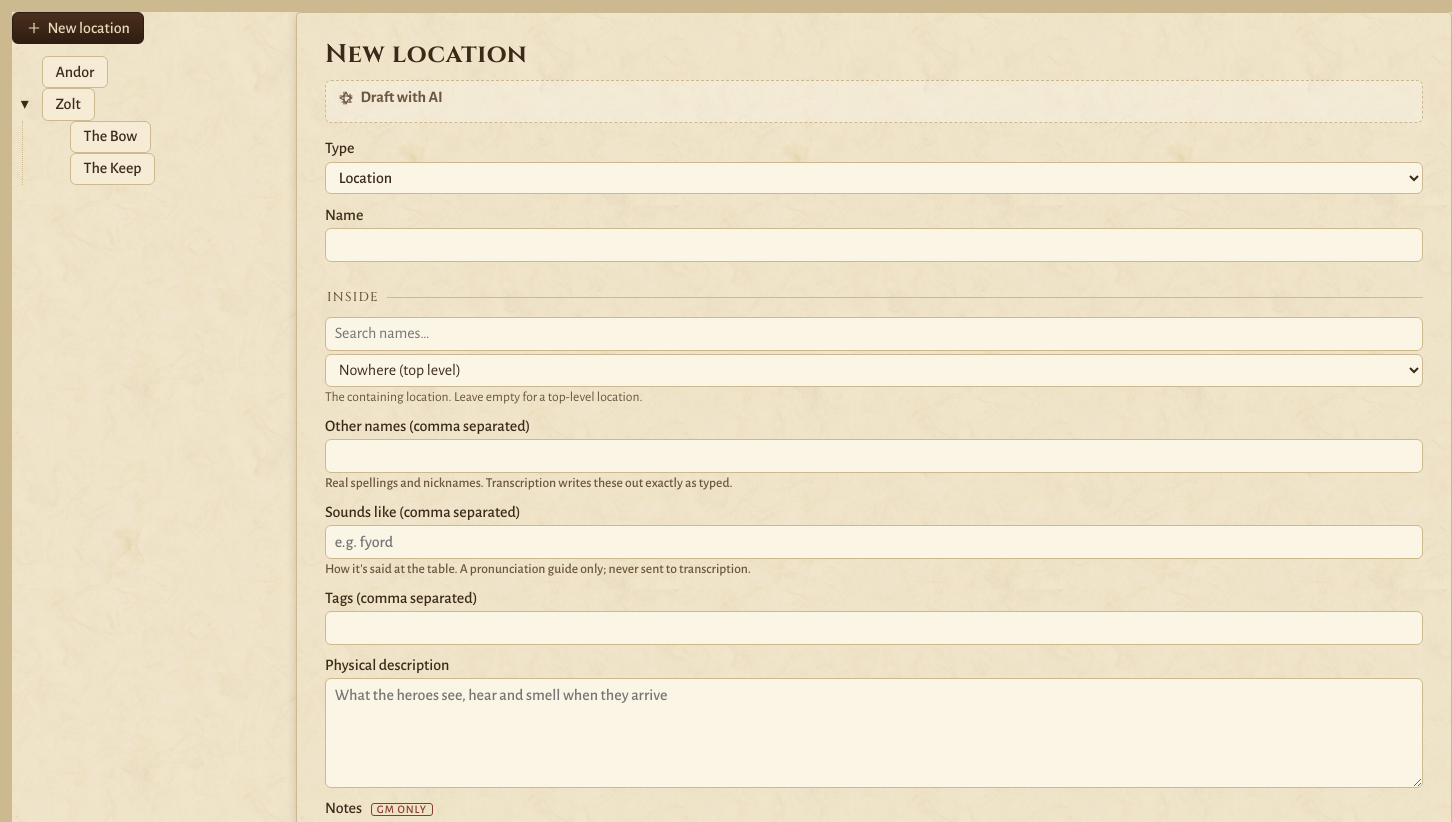
Test: location tree › places are alphabetical at every level, and a branch collapses (bafft-w8f.6)
The width and height of the screenshot is (1452, 822).
Expected: the button "The Bow" is shown, [70,121,151,153]
Click the button named "Collapse Zolt" at (25, 104), box [12,94,38,116]
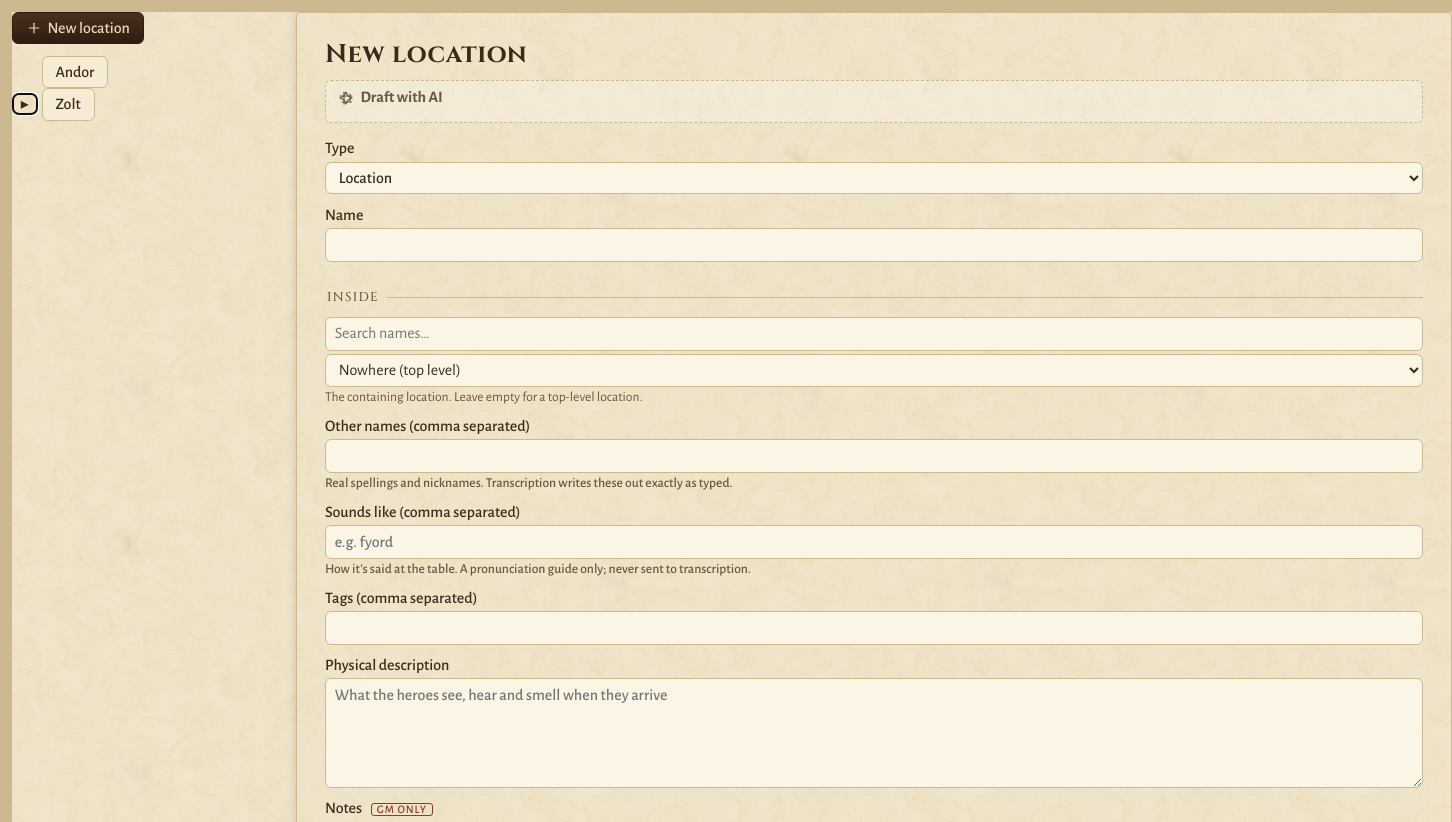
Now the button "The Bow" is gone
Click the button named "Expand Zolt" at (25, 104), box [12,94,38,116]
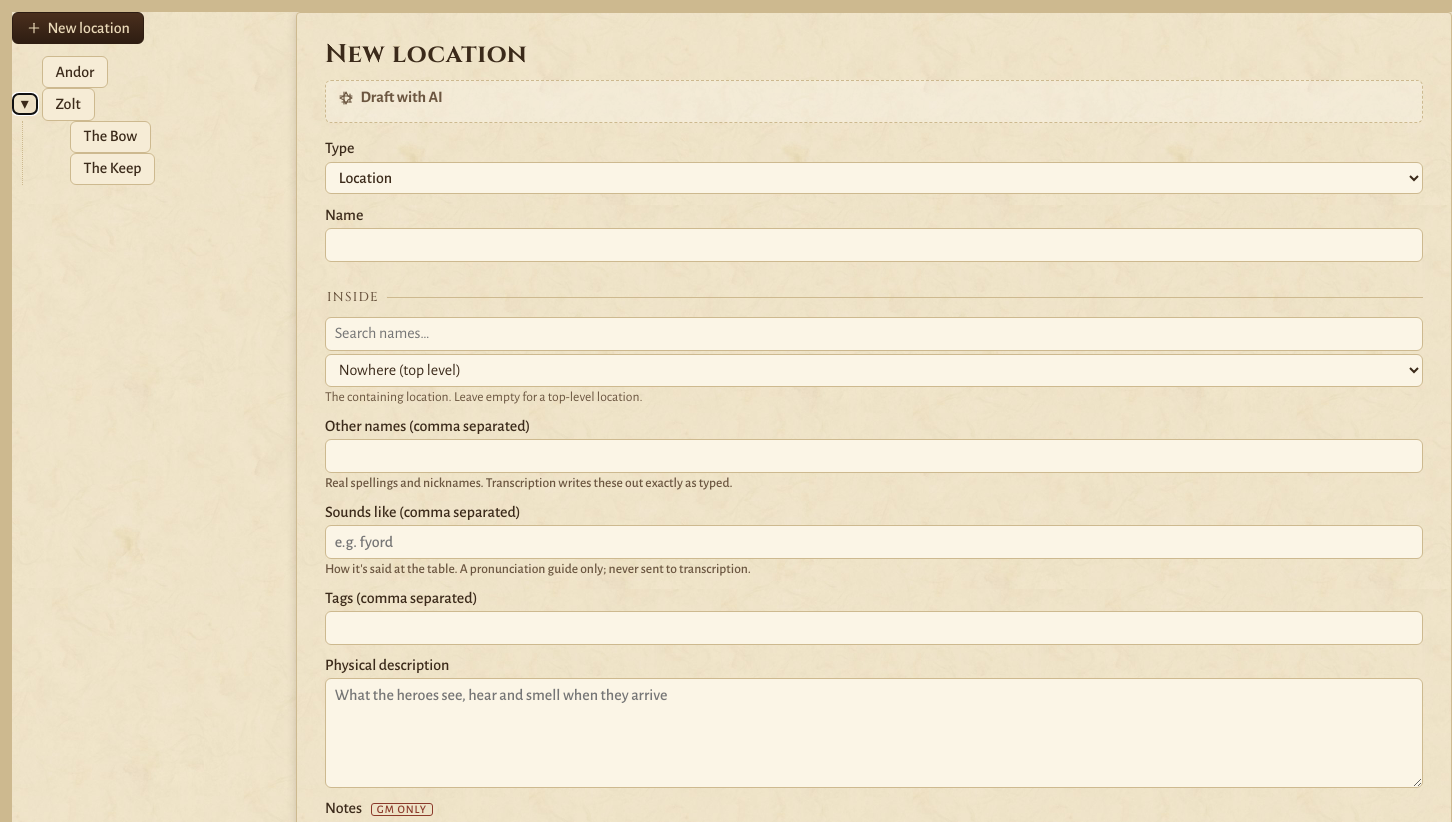
Now the button "The Bow" is shown, box [70,121,151,153]
